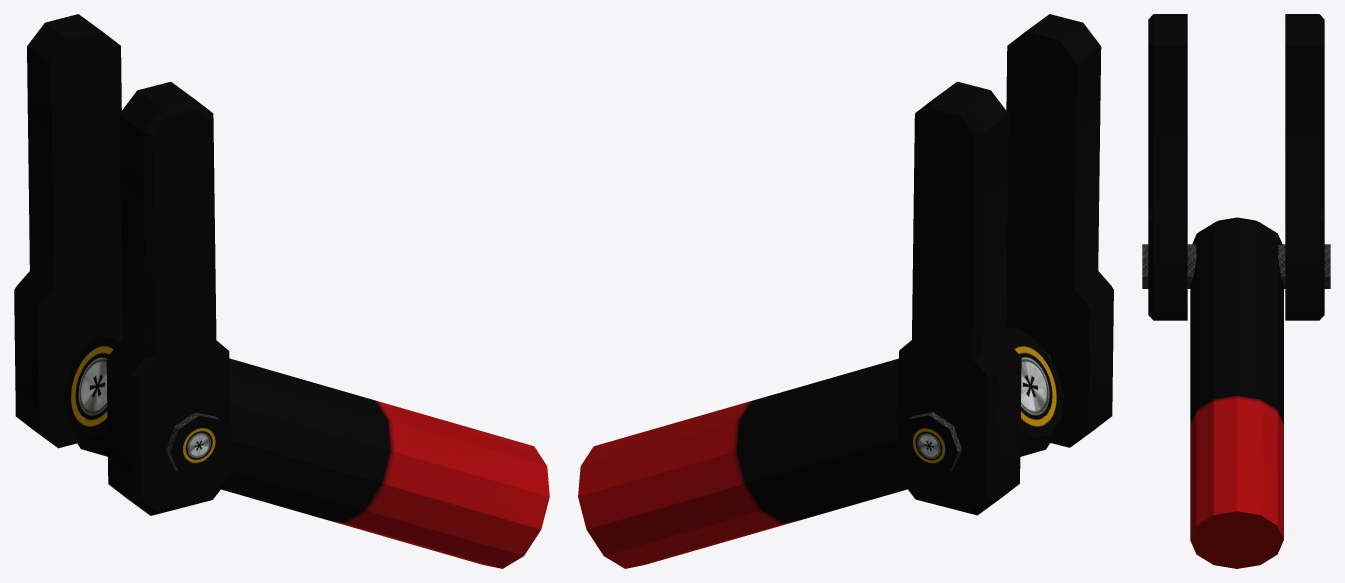
Rendered from K-WheelSuspMainCylinder.fbx.
3 views of the same model, side by side, from view 1: azimuth 30°, elevation 25°; view 2: azimuth 150°, elevation 25°; view 3: azimuth 270°, elevation 25° (orthographic). The views are drawn at different scales.
Visible parts, largest first — view 1: SuspMainCylinder, SuspMainCylinderArm_A, SuspMainCylinderArm_A1, SuspMainCylindeAxis; view 2: SuspMainCylinder, SuspMainCylinderArm_A1, SuspMainCylinderArm_A, SuspMainCylindeAxis; view 3: SuspMainCylinder, SuspMainCylinderArm_A, SuspMainCylinderArm_A1, SuspMainCylindeAxis.
Boxes of the visible parts, <box> form: SuspMainCylinder: <box>63,326,549,568</box>; SuspMainCylinderArm_A: <box>106,81,230,515</box>; SuspMainCylinderArm_A1: <box>14,14,122,448</box>; SuspMainCylindeAxis: <box>166,412,227,475</box>; SuspMainCylinder: <box>578,327,1063,568</box>; SuspMainCylinderArm_A1: <box>897,81,1021,515</box>; SuspMainCylinderArm_A: <box>1006,14,1113,447</box>; SuspMainCylindeAxis: <box>900,355,1050,475</box>; SuspMainCylinder: <box>1190,217,1284,568</box>; SuspMainCylinderArm_A: <box>1148,14,1187,320</box>; SuspMainCylinderArm_A1: <box>1285,14,1324,320</box>; SuspMainCylindeAxis: <box>1142,244,1330,288</box>.
Bounding box in the file's own units: 16.26 × 19.93 × 8.05.
